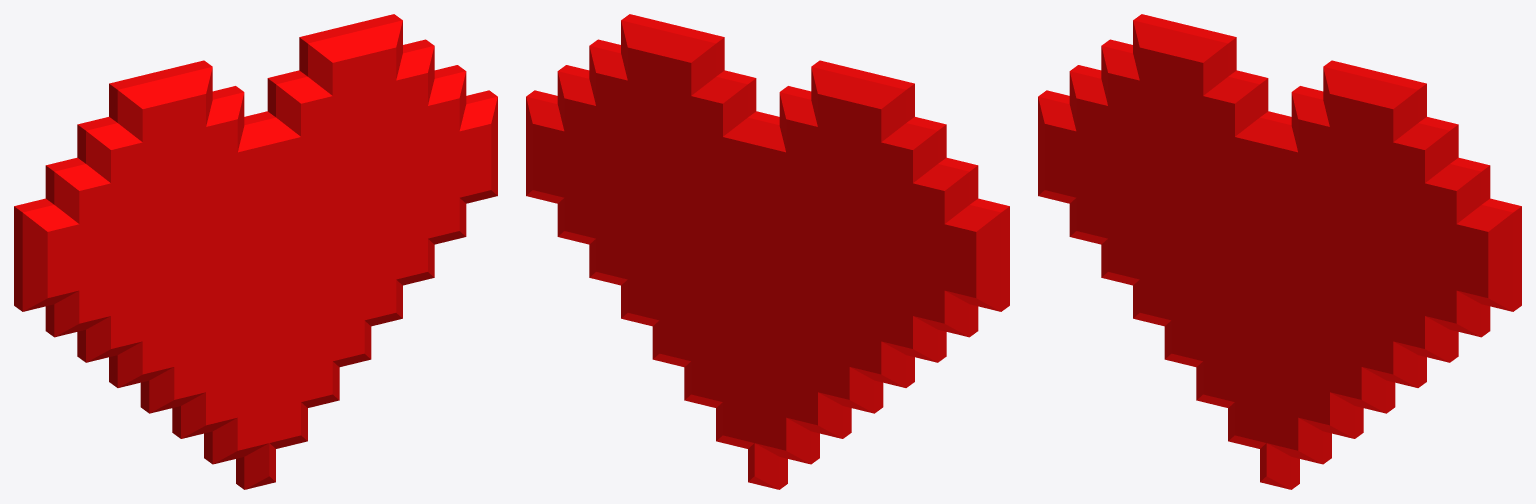
Rendered from HEART_RED-fbx.fbx.
The picture shows the model from 3 angles, left to right: view 1: azimuth 30°, elevation 25°; view 2: azimuth 150°, elevation 25°; view 3: azimuth 330°, elevation 25°; orthographic projection.
Visible parts, largest first — view 1: Line002; view 2: Line002; view 3: Line002.
Part boxes in pixels (left/top/right/bottom): Line002: left=14, top=14, right=497, bottom=489; Line002: left=526, top=14, right=1009, bottom=489; Line002: left=1038, top=14, right=1521, bottom=489.
Bounding box in the file's own units: 150 × 130 × 14.72.
